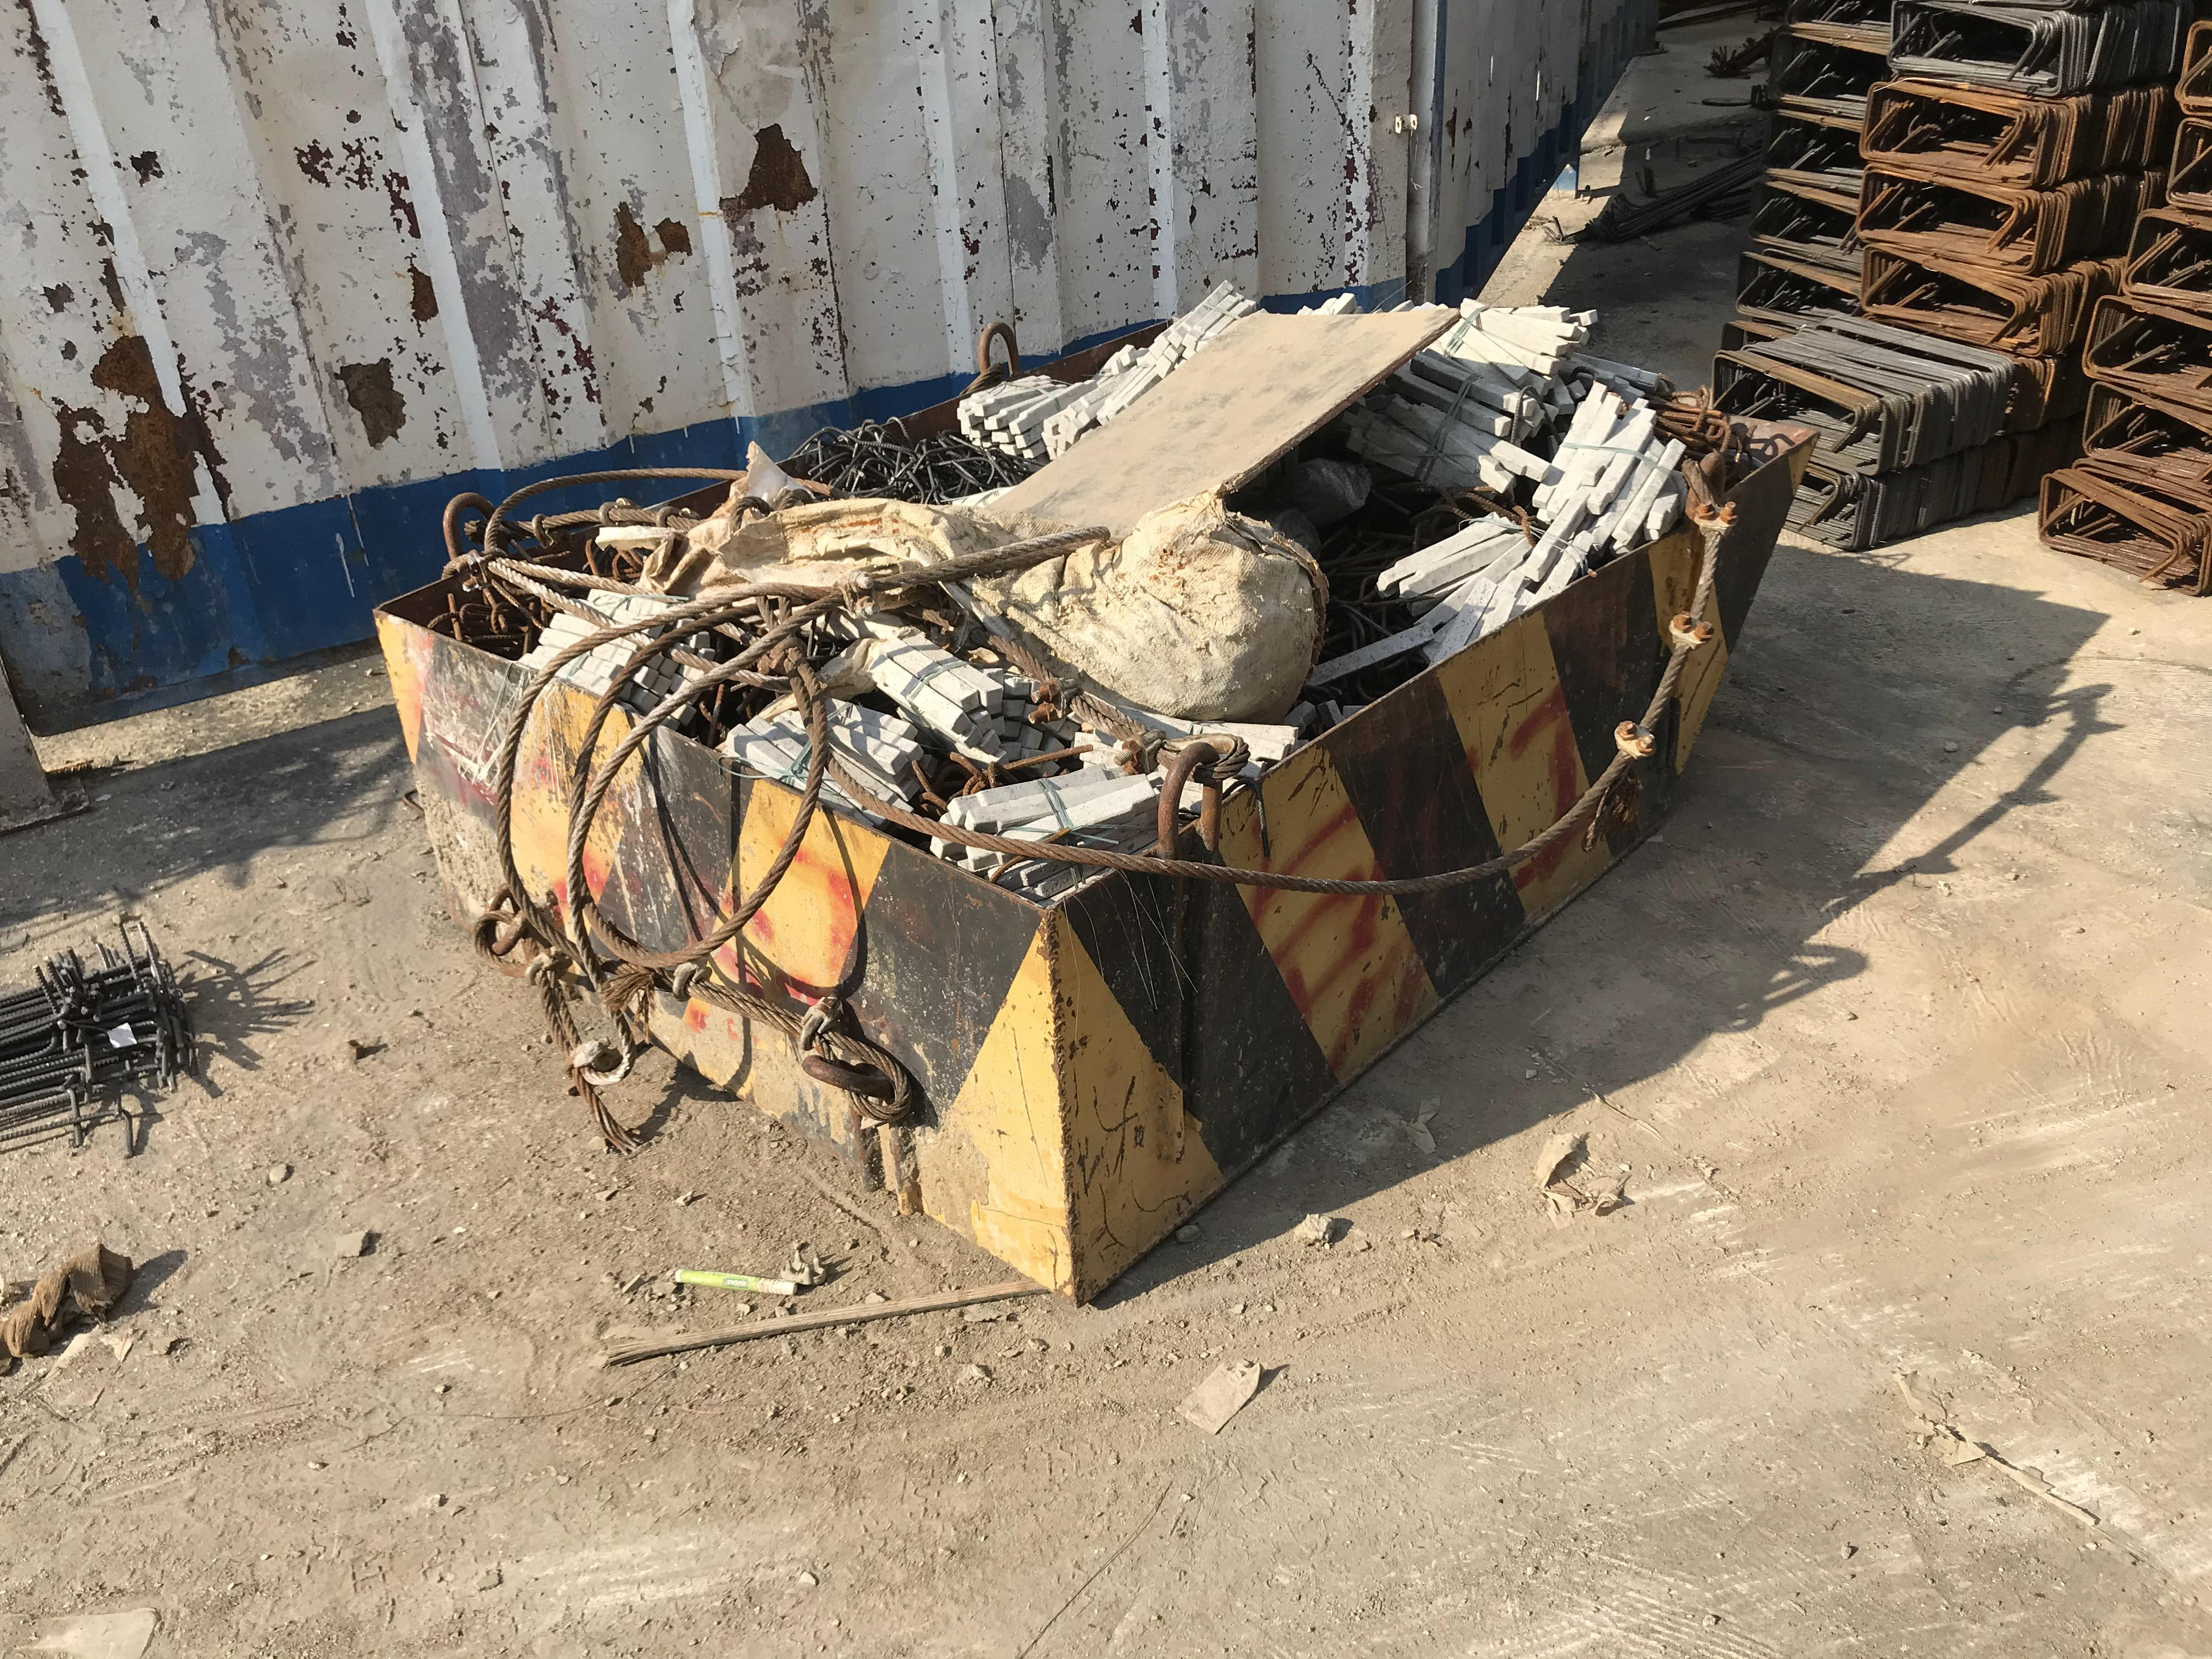hopper: (362, 265, 1829, 1324)
